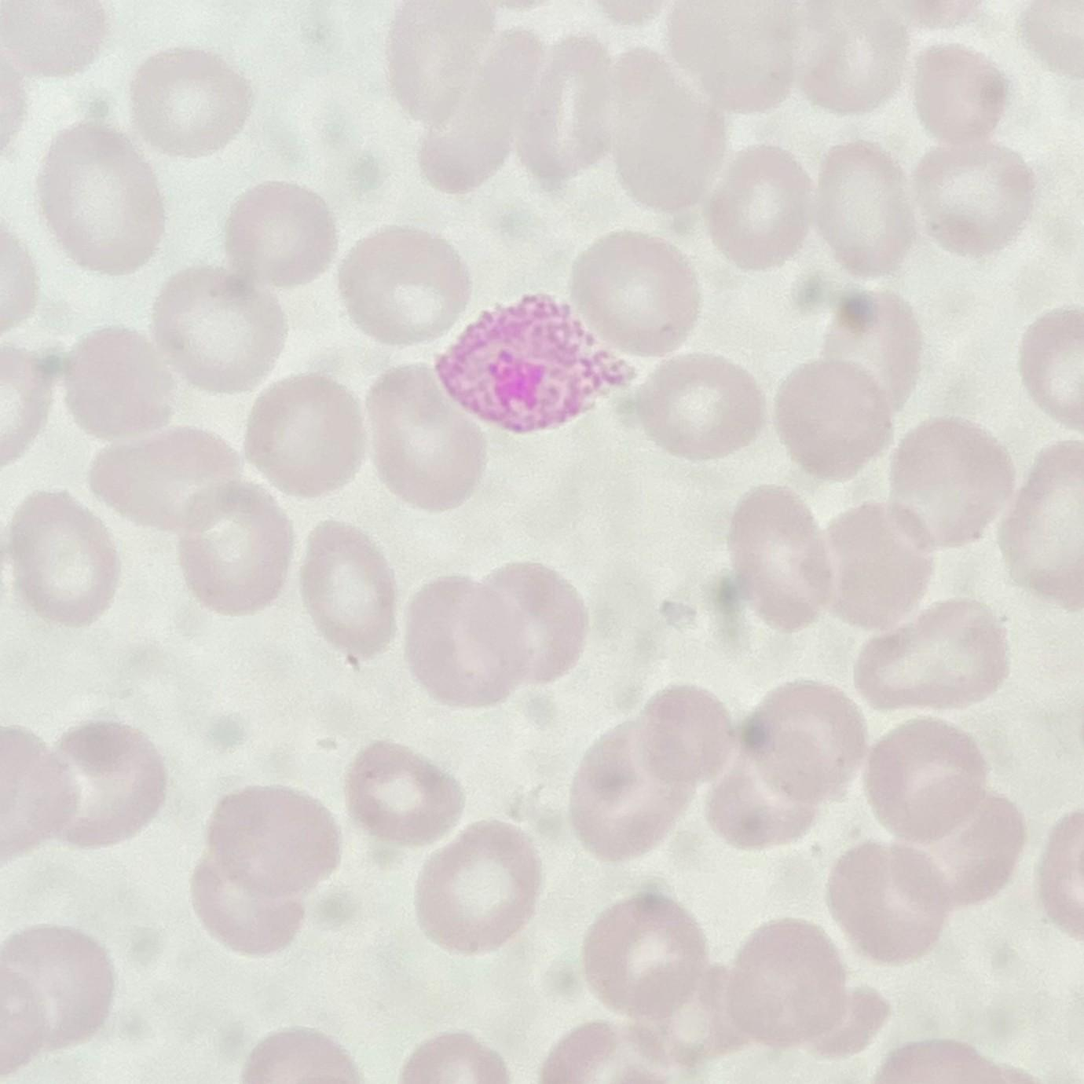Infected: (430, 293, 638, 435)
Uninfected: (599, 42, 731, 206), (31, 128, 165, 272), (365, 362, 489, 514), (35, 717, 168, 850), (569, 721, 690, 864), (890, 417, 1017, 553), (155, 267, 286, 396), (894, 782, 1028, 907), (854, 605, 1009, 713), (414, 819, 542, 949), (177, 478, 297, 614), (88, 428, 251, 528), (407, 576, 528, 710), (662, 0, 797, 120), (340, 228, 474, 347), (573, 228, 701, 352), (579, 896, 705, 1020), (744, 680, 866, 808), (6, 487, 121, 622), (208, 786, 346, 897), (242, 374, 363, 500), (912, 140, 1040, 258), (729, 482, 833, 627), (776, 354, 894, 481), (823, 841, 943, 965), (383, 0, 506, 120), (813, 503, 936, 622), (701, 144, 811, 274), (870, 721, 988, 842), (298, 523, 402, 660), (638, 350, 767, 459), (0, 927, 119, 1045), (1000, 436, 1084, 603), (729, 919, 844, 1040), (528, 40, 622, 187), (815, 148, 919, 278), (130, 48, 253, 157), (473, 558, 583, 677), (799, 0, 910, 117), (222, 181, 342, 286), (825, 291, 929, 412), (346, 745, 467, 847), (61, 326, 171, 435), (705, 749, 820, 850), (187, 855, 305, 952), (626, 959, 738, 1059), (638, 684, 734, 787), (911, 48, 1012, 143)
